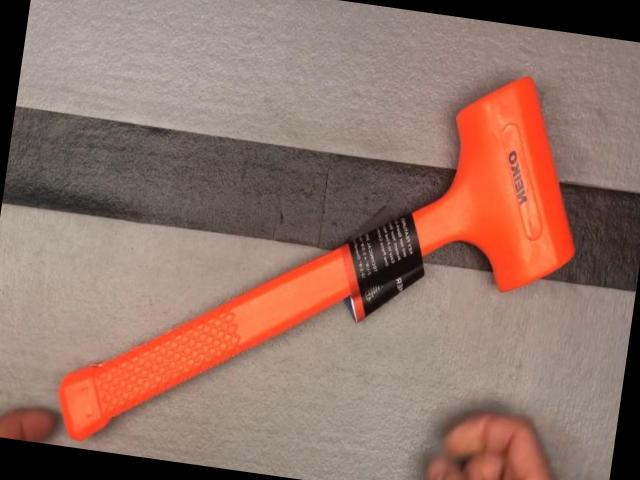hammer: (52, 19, 597, 480)
